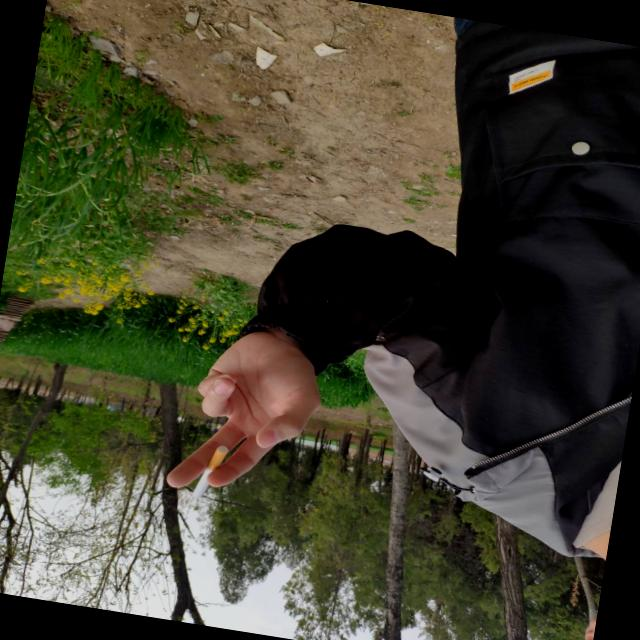smoke: (182, 430, 250, 512)
